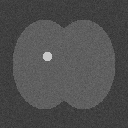nodule: (41, 47, 55, 65)
